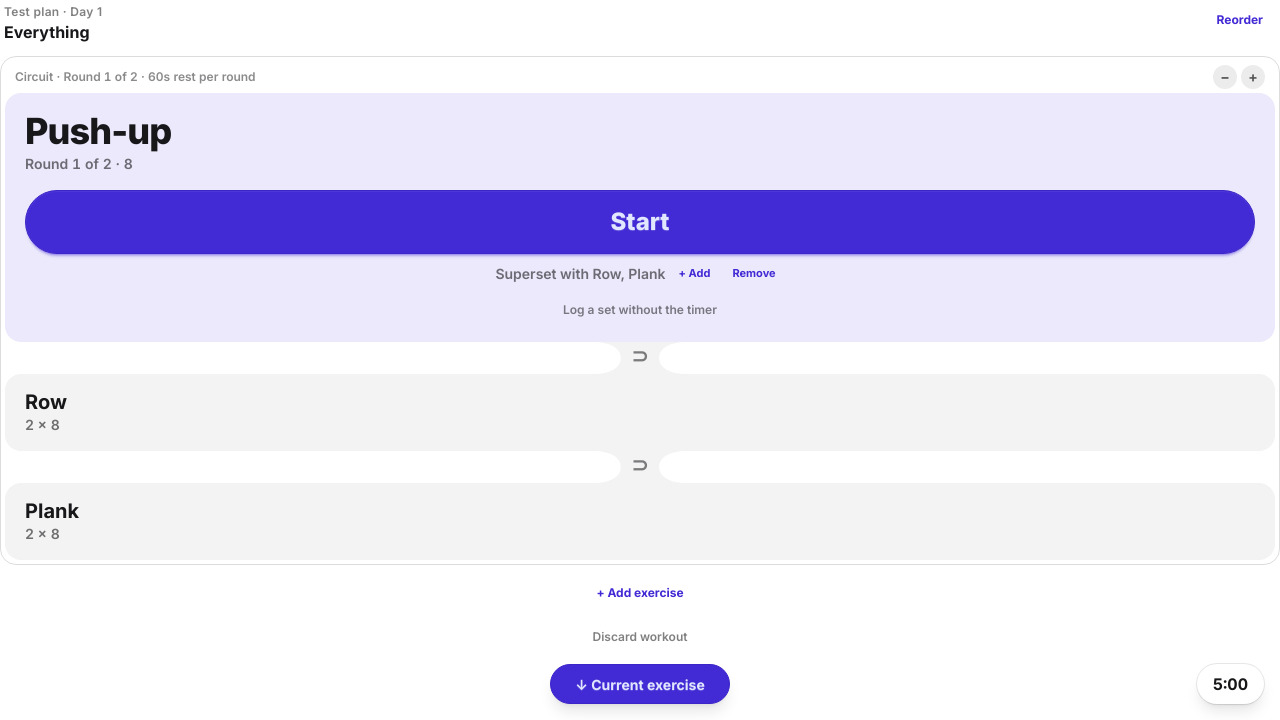
active workout › adds and removes a circuit's rounds
Expected: the text "Circuit · Round 1 of 2 · 60s rest per round" is shown, top-left (15, 69), bottom-right (256, 84)
Click the button named "One more round" at [1253, 77], box top-left (1241, 65), bottom-right (1265, 89)
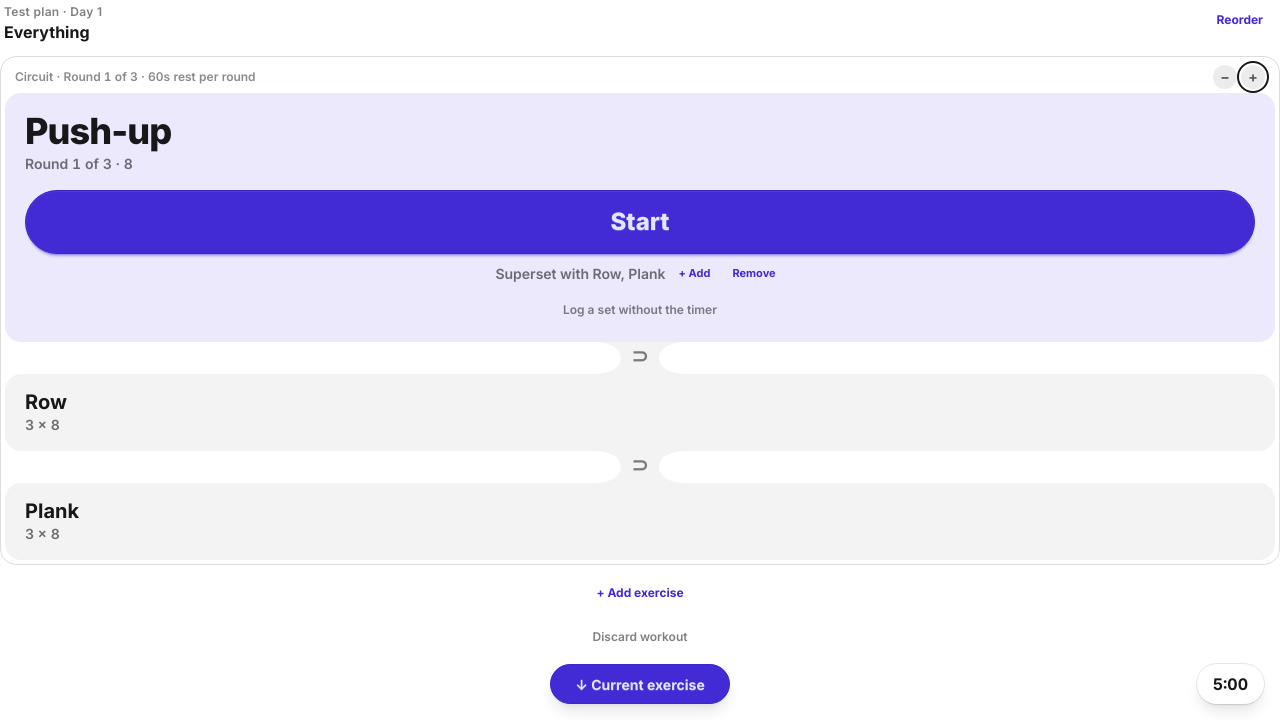
Result: the text "Circuit · Round 1 of 3 · 60s rest per round" is shown at top-left (15, 69), bottom-right (256, 84)
Click the button named "One round fewer" at [1225, 77], box top-left (1213, 65), bottom-right (1237, 89)
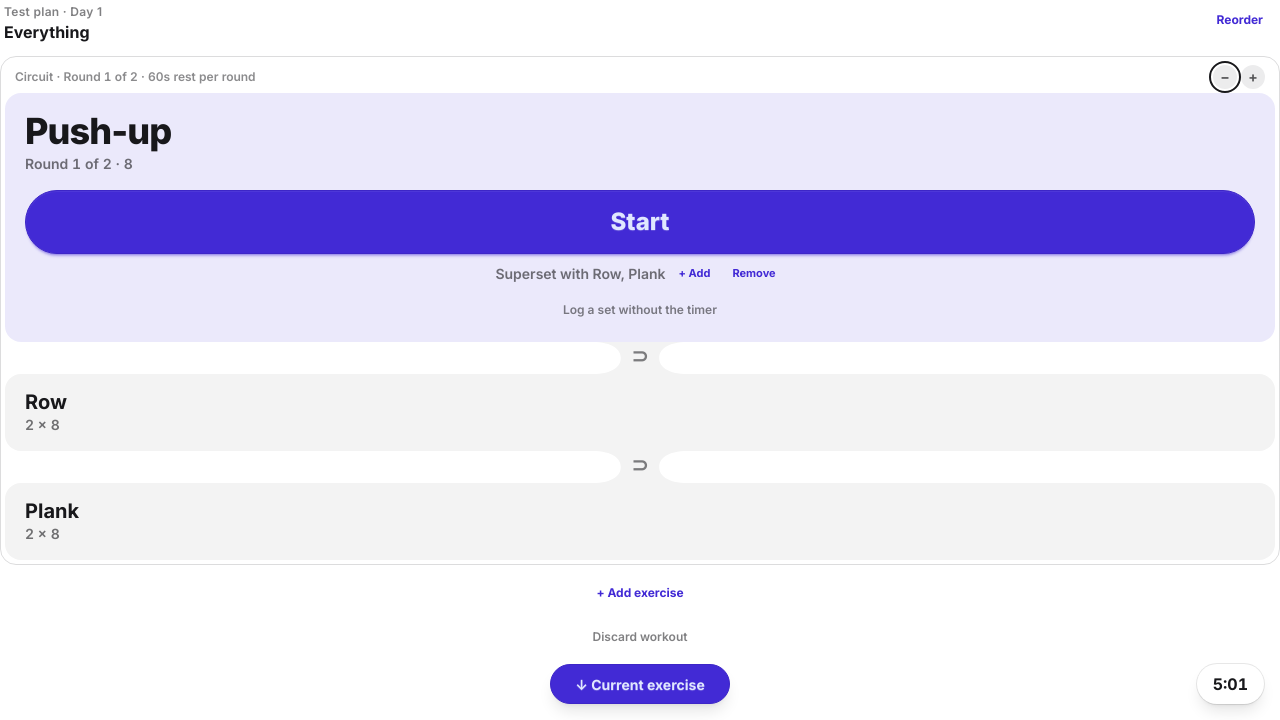
Click the button named "One round fewer" at [1225, 77], box top-left (1213, 65), bottom-right (1237, 89)
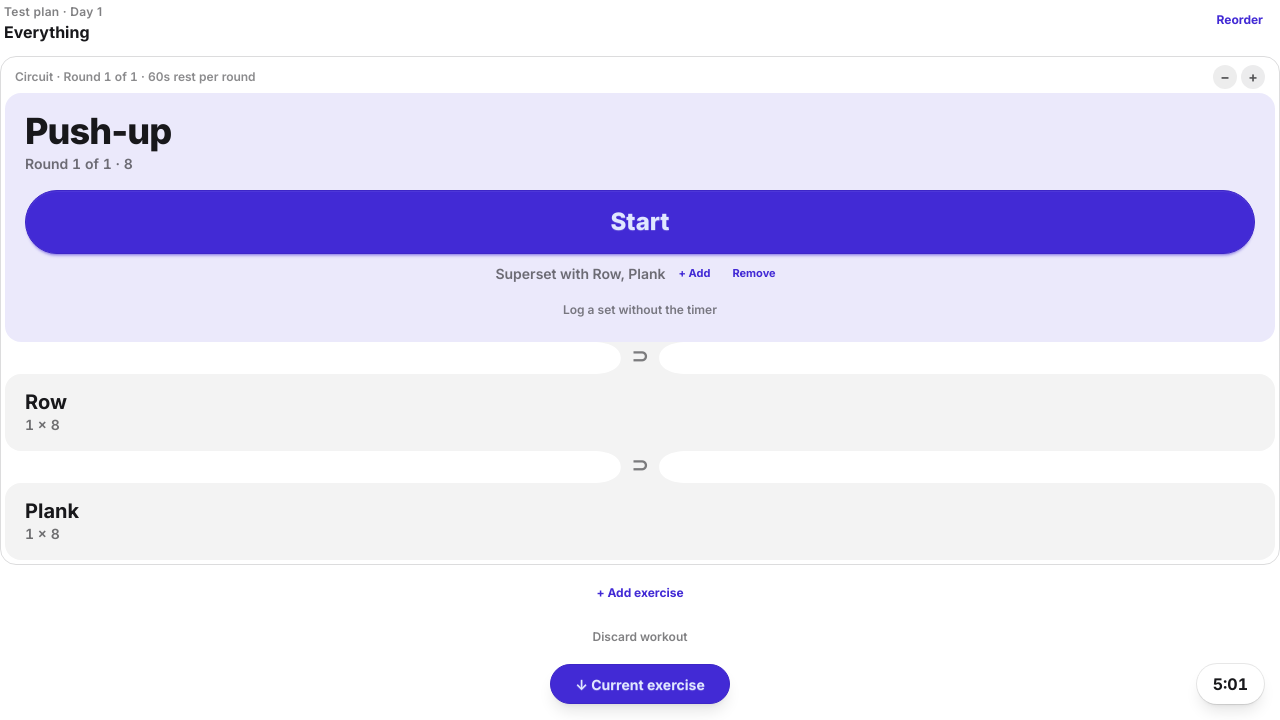
Result: the text "Circuit · Round 1 of 1 · 60s rest per round" is shown at top-left (15, 69), bottom-right (256, 84)
Result: the button named "One round fewer" is disabled at top-left (1213, 65), bottom-right (1237, 89)
